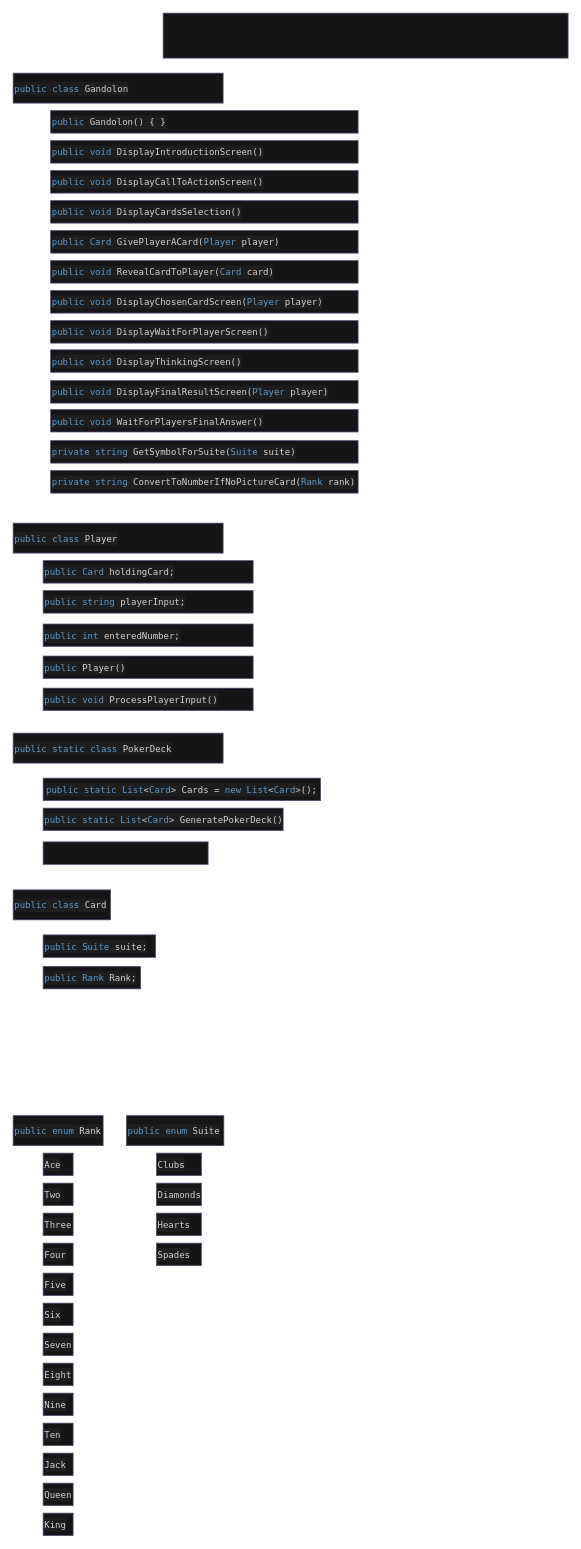
Image size: 581x1549. Some labels were removed from this diagram. Each missing label, with the centre of its shape:
"Abstract Class and Function Elements" belongs at (365,35).
"public static Card DrawCard()" belongs at (125,852).
